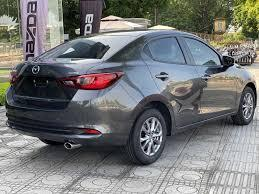mazda: (26, 60, 46, 80)
